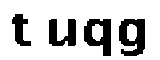g: (117, 17, 147, 60)
q: (81, 16, 112, 60)
t: (10, 12, 35, 51)
u: (42, 16, 79, 51)
